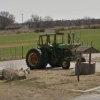Tractor: (21, 32, 84, 77)
